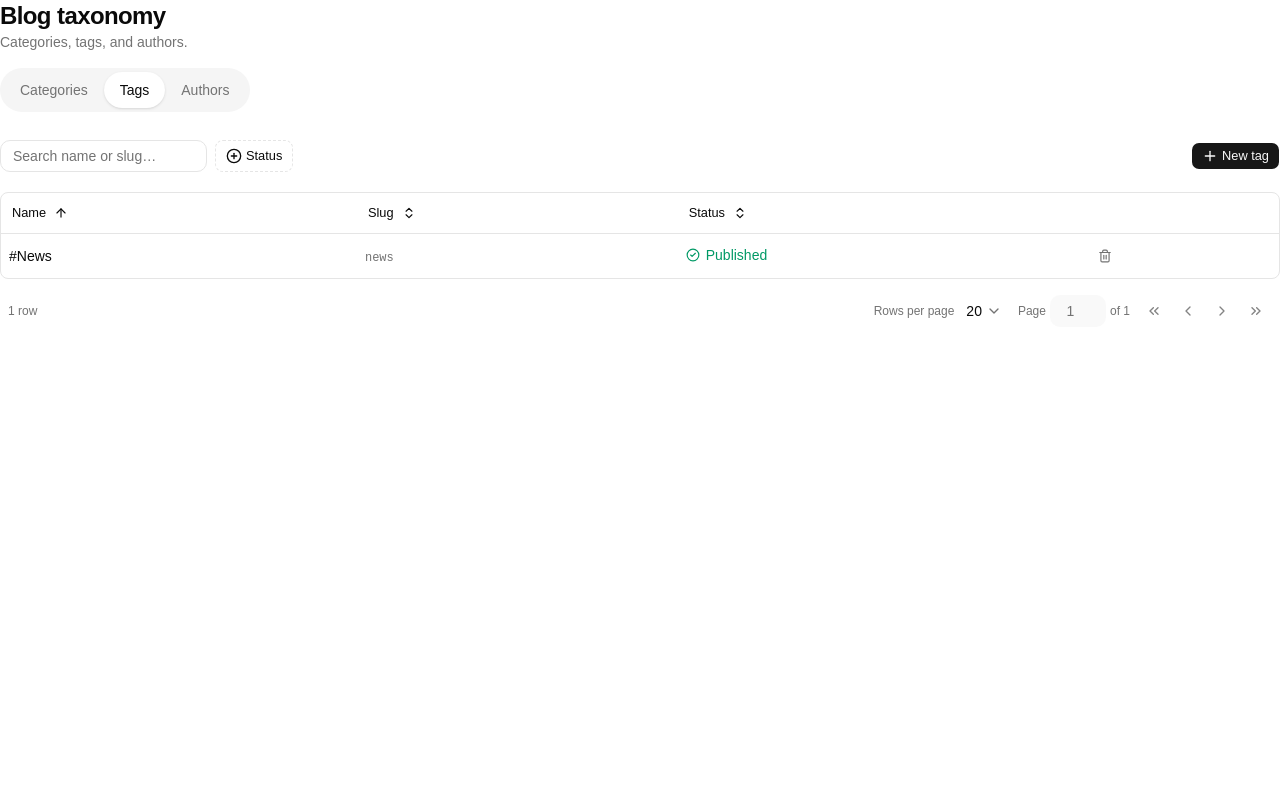
it: BlogTaxonomyPage delete › keeps the dialog open and shows a refused delete
Expected: the link "New tag" is shown, [1191,142,1279,170]
Click the 5th button: (1105, 256) [1089,242,1121,270]
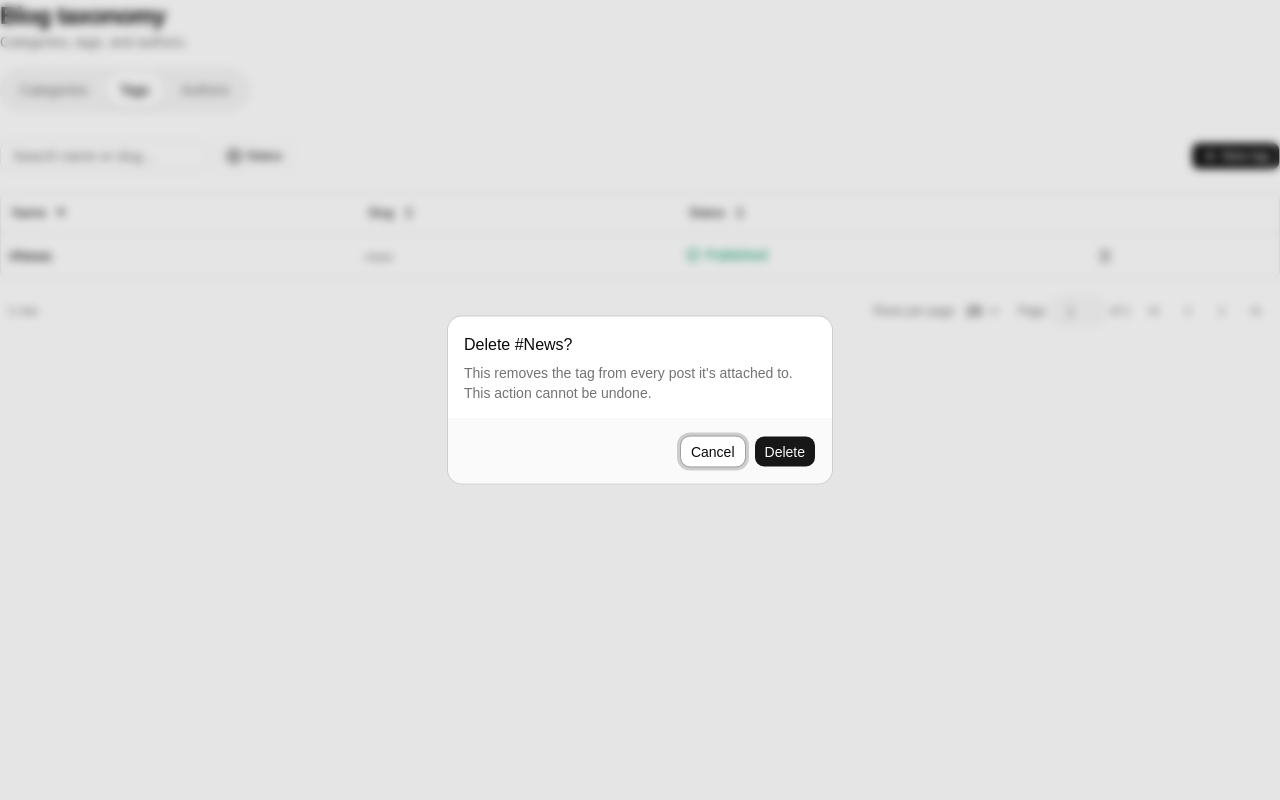
Result: the heading "Delete #News?" is shown at [464,332,572,356]
Click the button "Delete": (785, 452) [754,436,816,468]
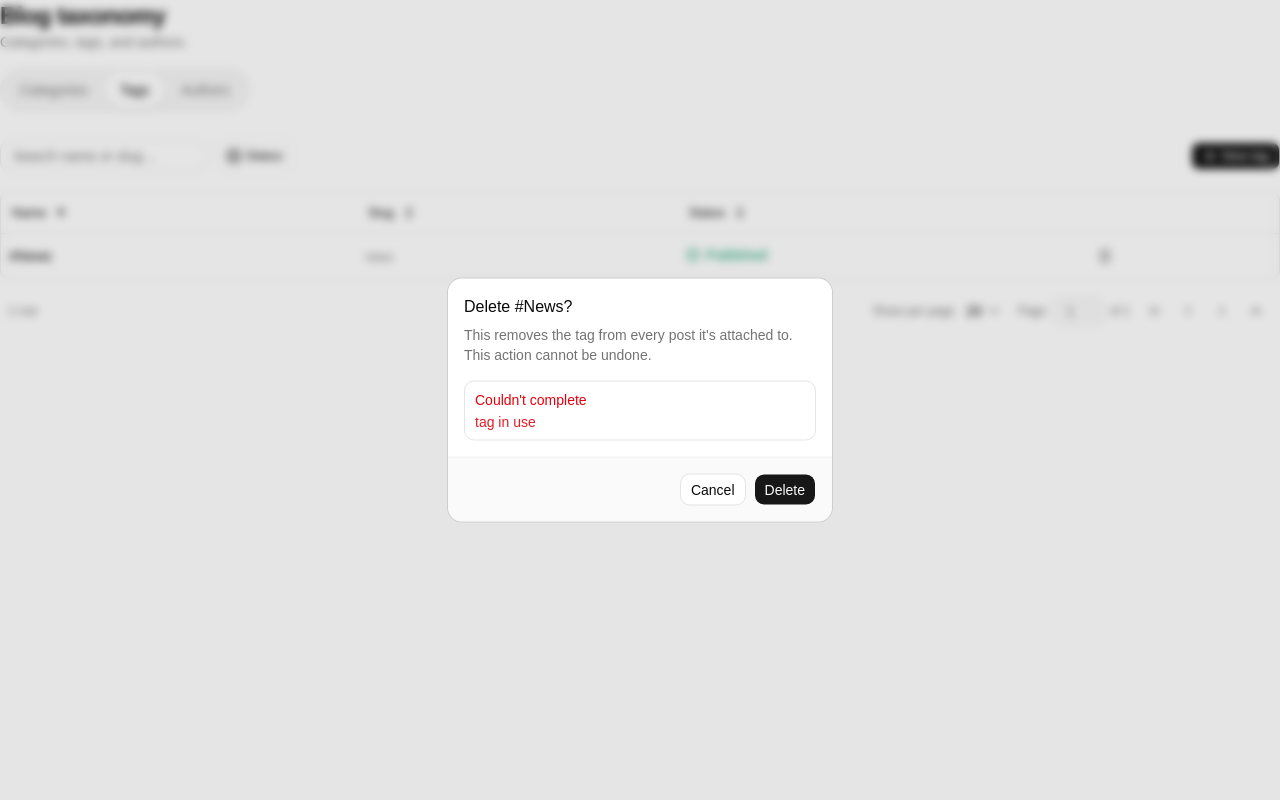
Result: the text "tag in use" is shown at [475,414,536,430]
